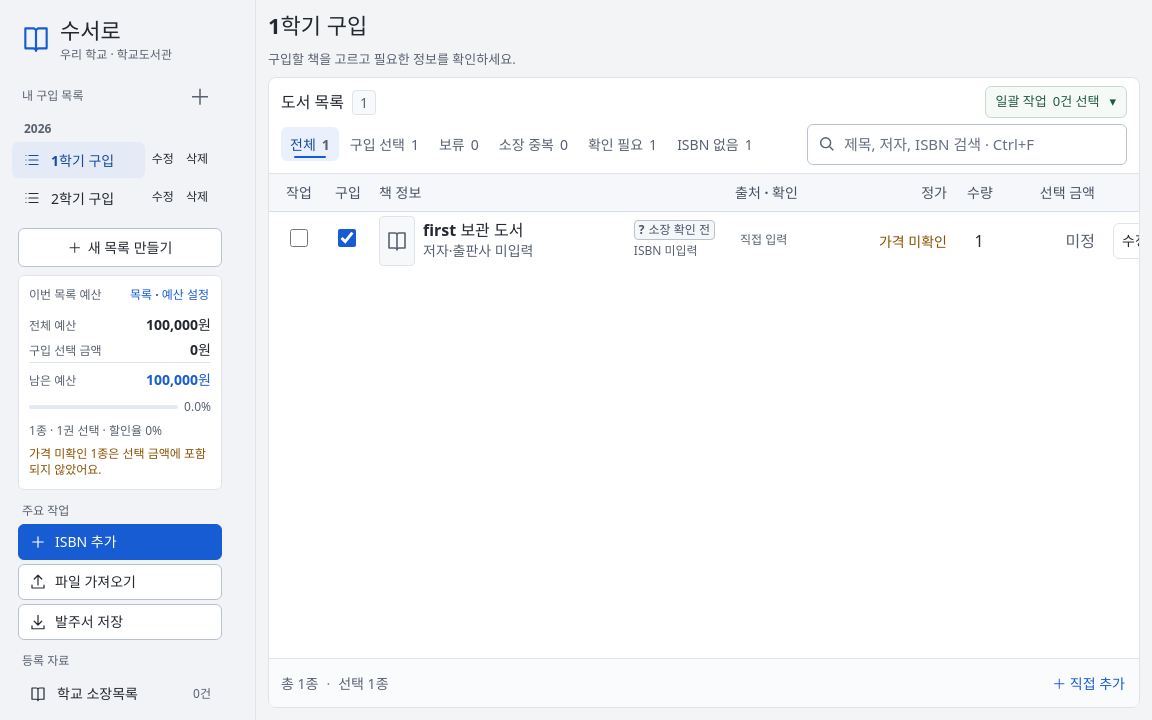
Test: confirms list deletion, keeps failed requests reviewable, and restores the selected list with undo
The image size is (1152, 720).
Expected: the button "first 보관 도서" is shown, x1=423 y1=220 x2=626 y2=240
Click the button with aria-label "1학기 구입 목록 삭제". click: (197, 159)
box: x1=181 y1=141 x2=213 y2=177
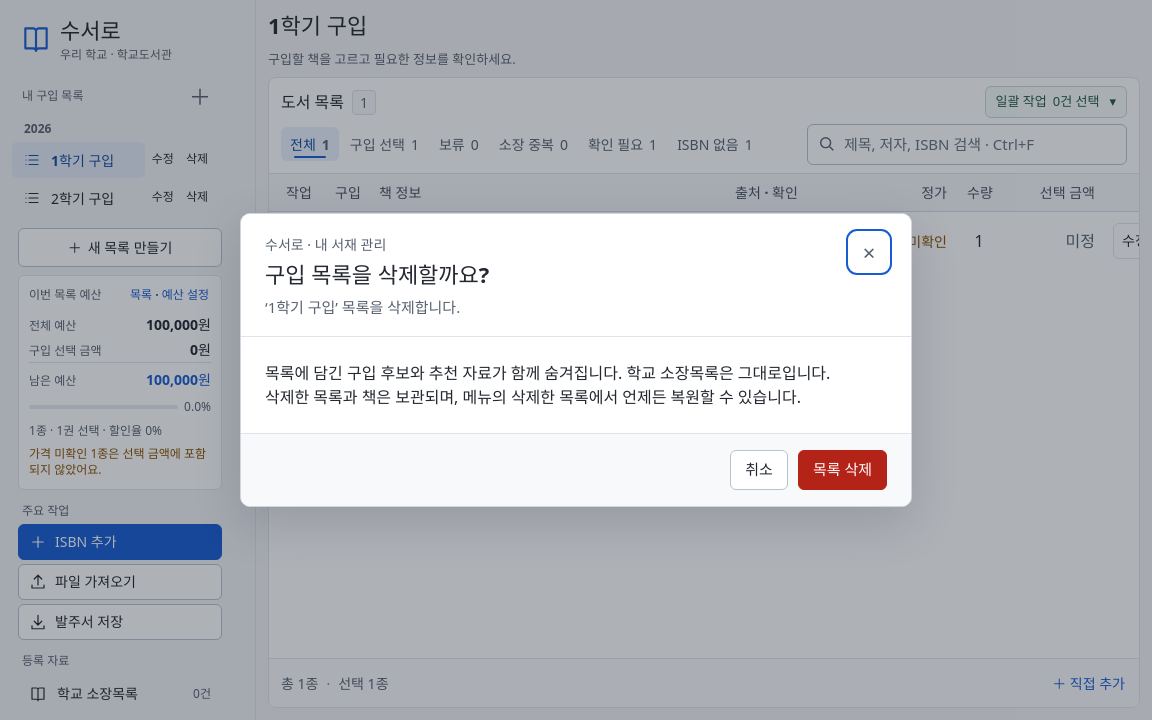
Click the button "취소". click: (759, 470)
box: x1=730 y1=450 x2=788 y2=490
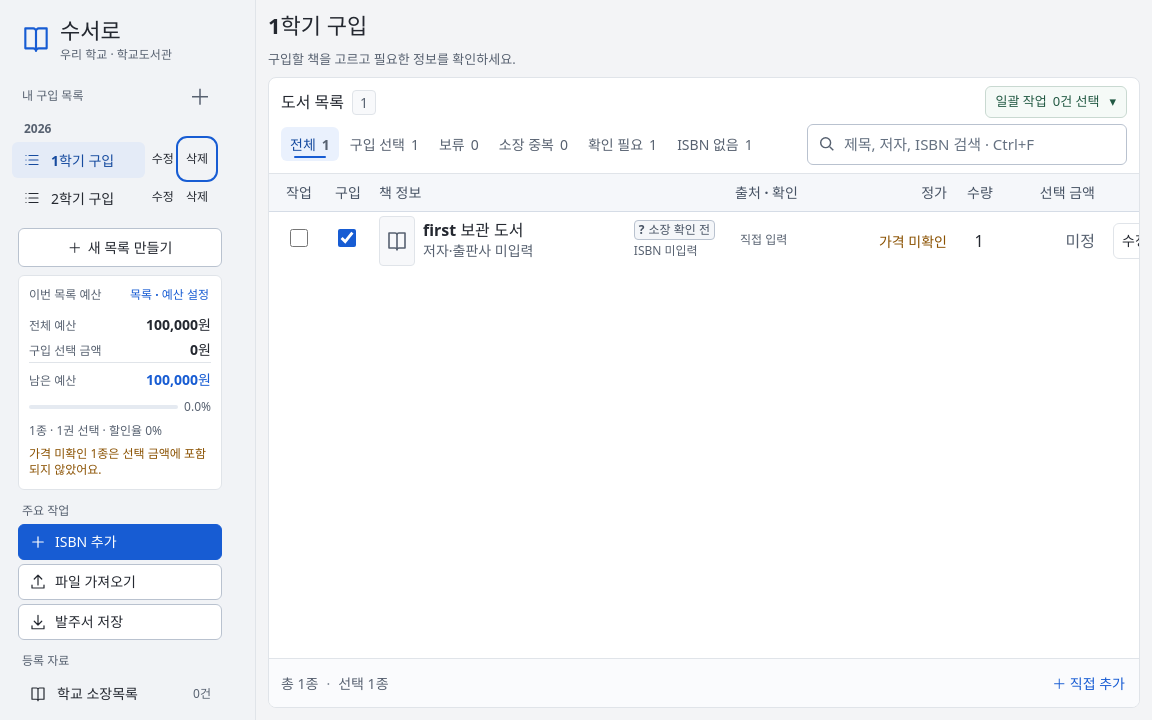
Click the button with aria-label "1학기 구입 목록 삭제". click: (197, 159)
box: x1=181 y1=141 x2=213 y2=177
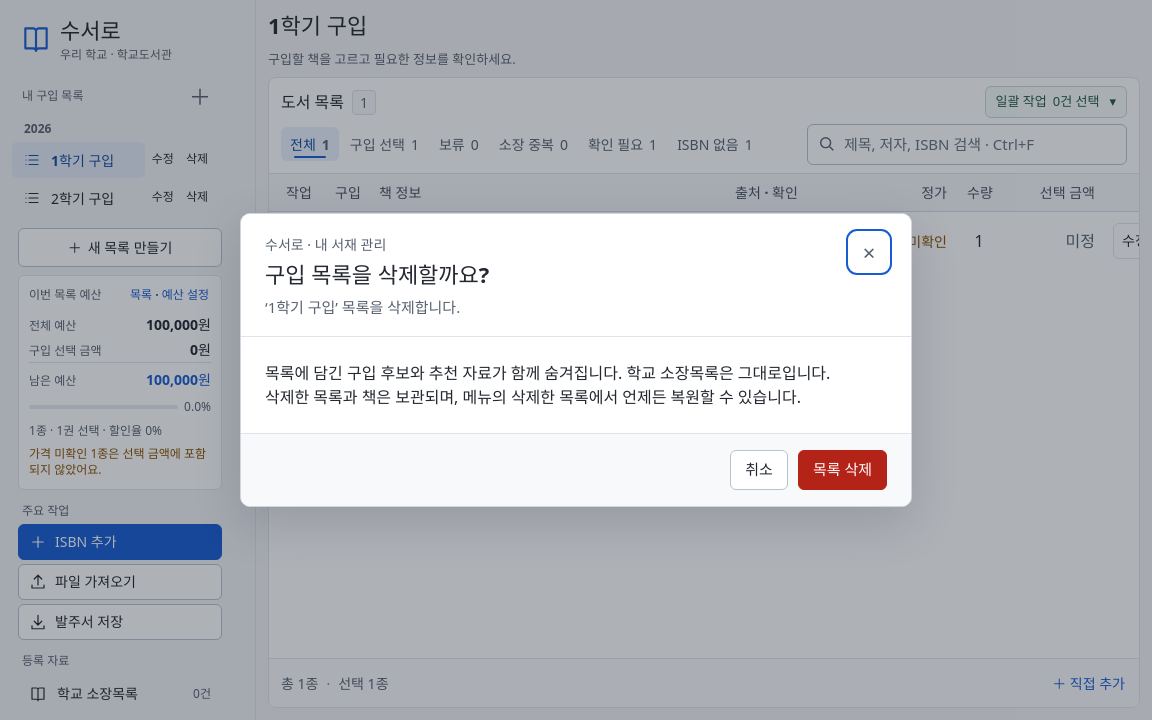
Click the button "목록 삭제". click: (842, 470)
box: x1=798 y1=450 x2=887 y2=490
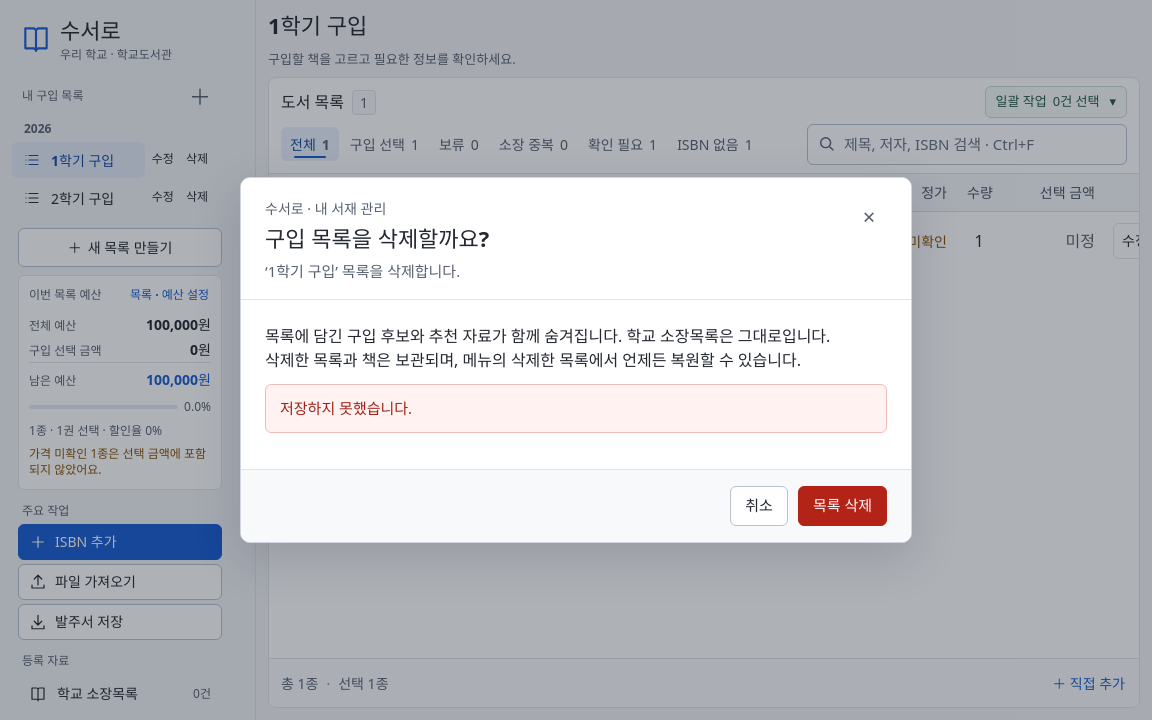
Now the message reads "저장하지 못했습니다.", box x1=280 y1=398 x2=412 y2=418
Click the button "목록 삭제". click: (842, 506)
box: x1=798 y1=486 x2=887 y2=526
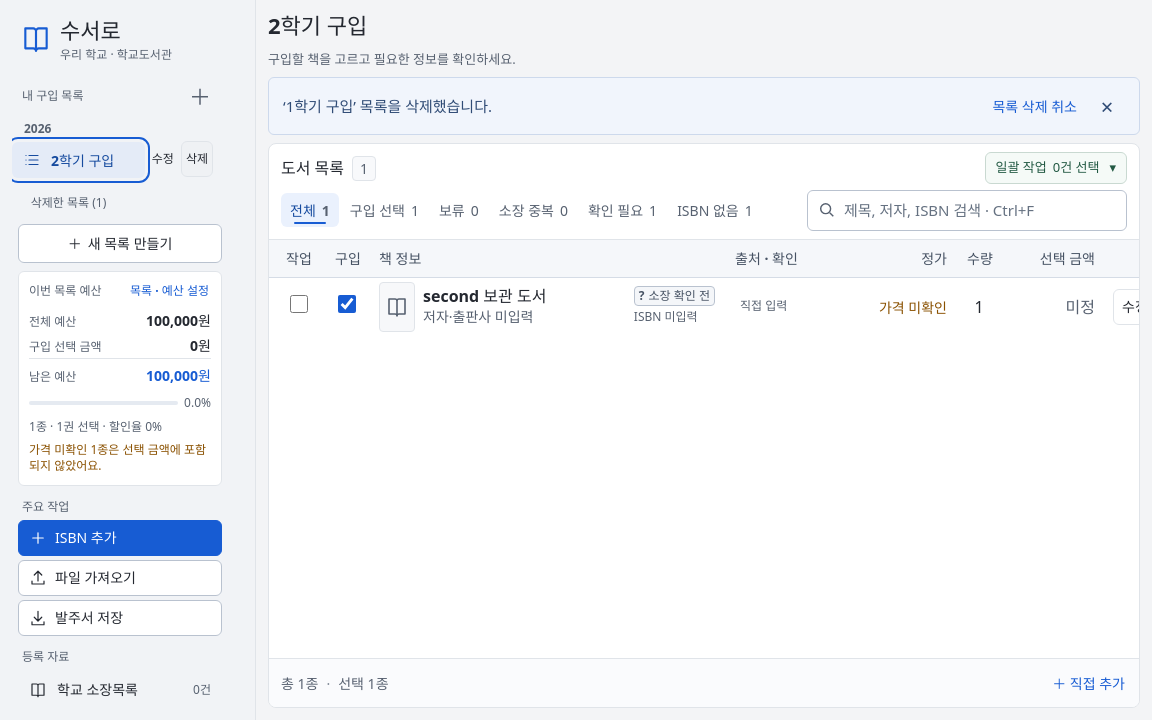
Now the button "second 보관 도서" is shown, box x1=423 y1=286 x2=626 y2=306
Now the button with aria-label "2학기 구입 목록 삭제" is disabled, box x1=181 y1=141 x2=213 y2=177
Click the button "목록 삭제 취소". click: (1035, 106)
box: x1=990 y1=88 x2=1079 y2=124
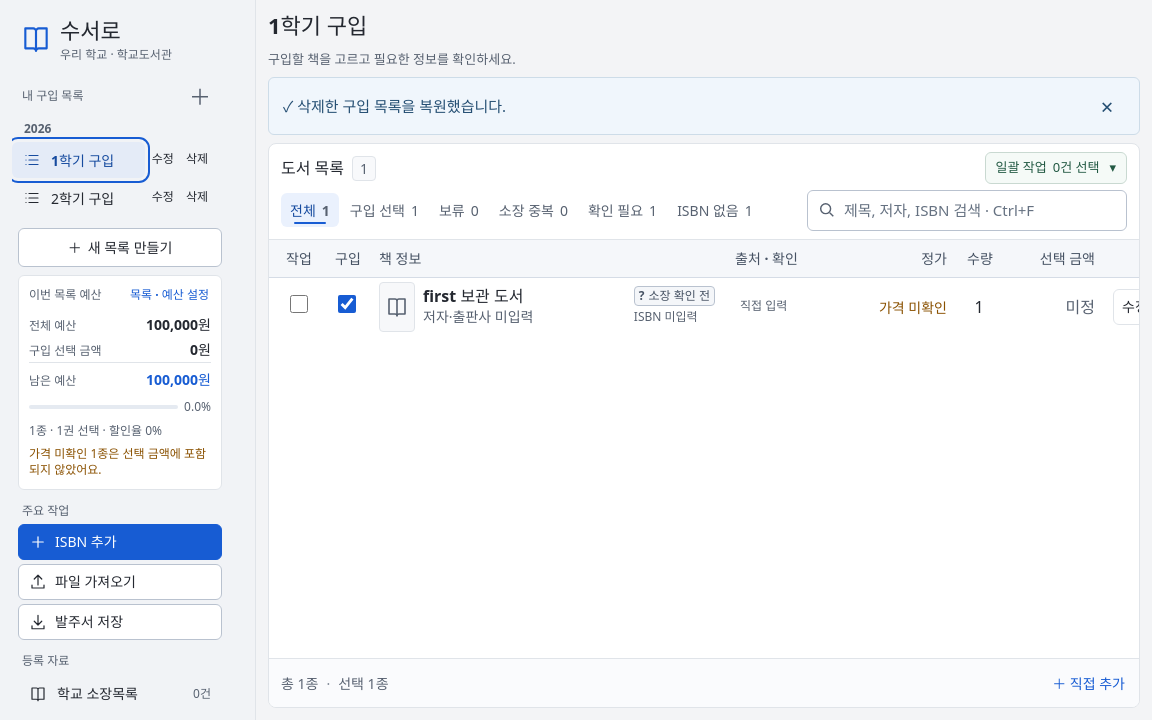
Expected: the button with aria-label "1학기 구입 목록 삭제" is enabled, x1=181 y1=141 x2=213 y2=177
Now the button "first 보관 도서" is shown, box x1=423 y1=286 x2=626 y2=306
